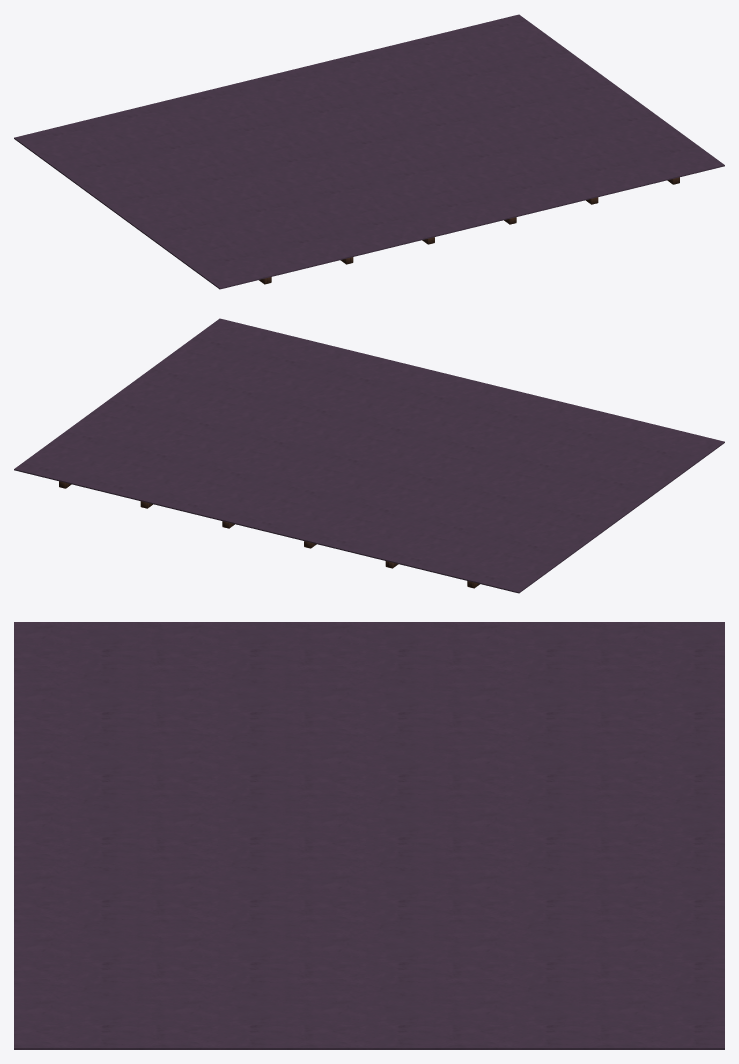
Rendered from manor_ceiling.glb.
3 views of the same model, one above another, from view 1: azimuth 30°, elevation 25°; view 2: azimuth 150°, elevation 25°; view 3: azimuth 270°, elevation 25° (orthographic). The views are drawn at different scales.
Parts seen in each view (by area): view 1: Ceiling; view 2: Ceiling; view 3: Ceiling.
Part boxes in pixels (x1,y1,x2,y2): Ceiling: (14,14,724,289); Ceiling: (14,318,724,593); Ceiling: (14,622,724,1049).
Bounding box in the file's own units: 13.6 × 0.19 × 9.6.
3 materials, 2 textured.
